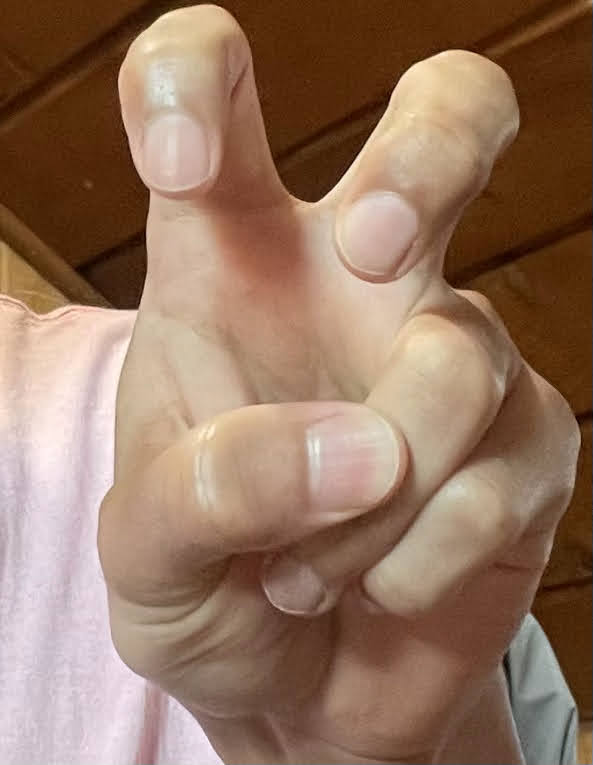pizza: (94, 3, 585, 743)
